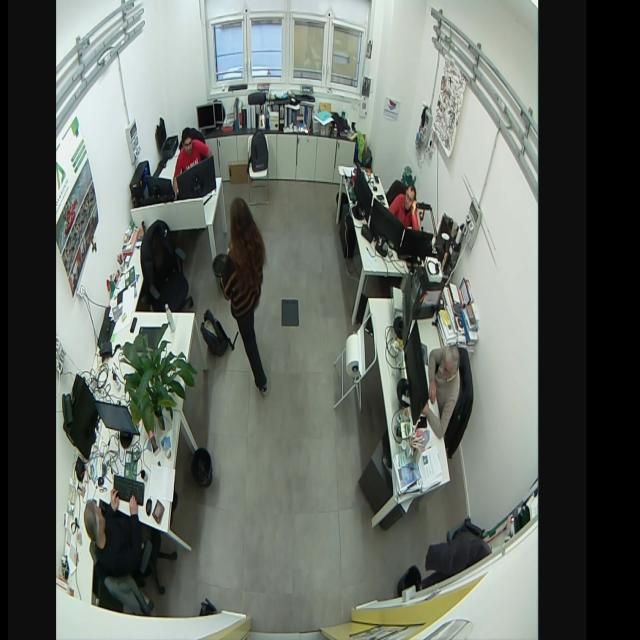Persona: (215, 193, 270, 400), (81, 485, 148, 574), (421, 342, 463, 440), (171, 121, 211, 180), (387, 180, 421, 233)
